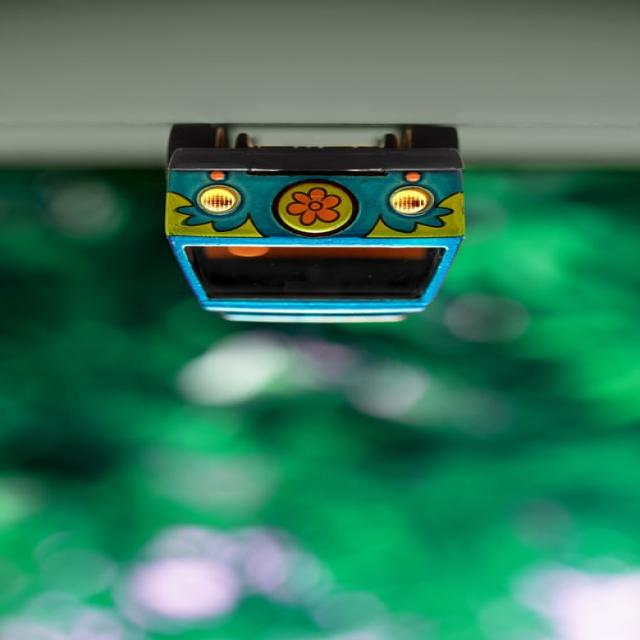Car: (164, 124, 467, 323)
